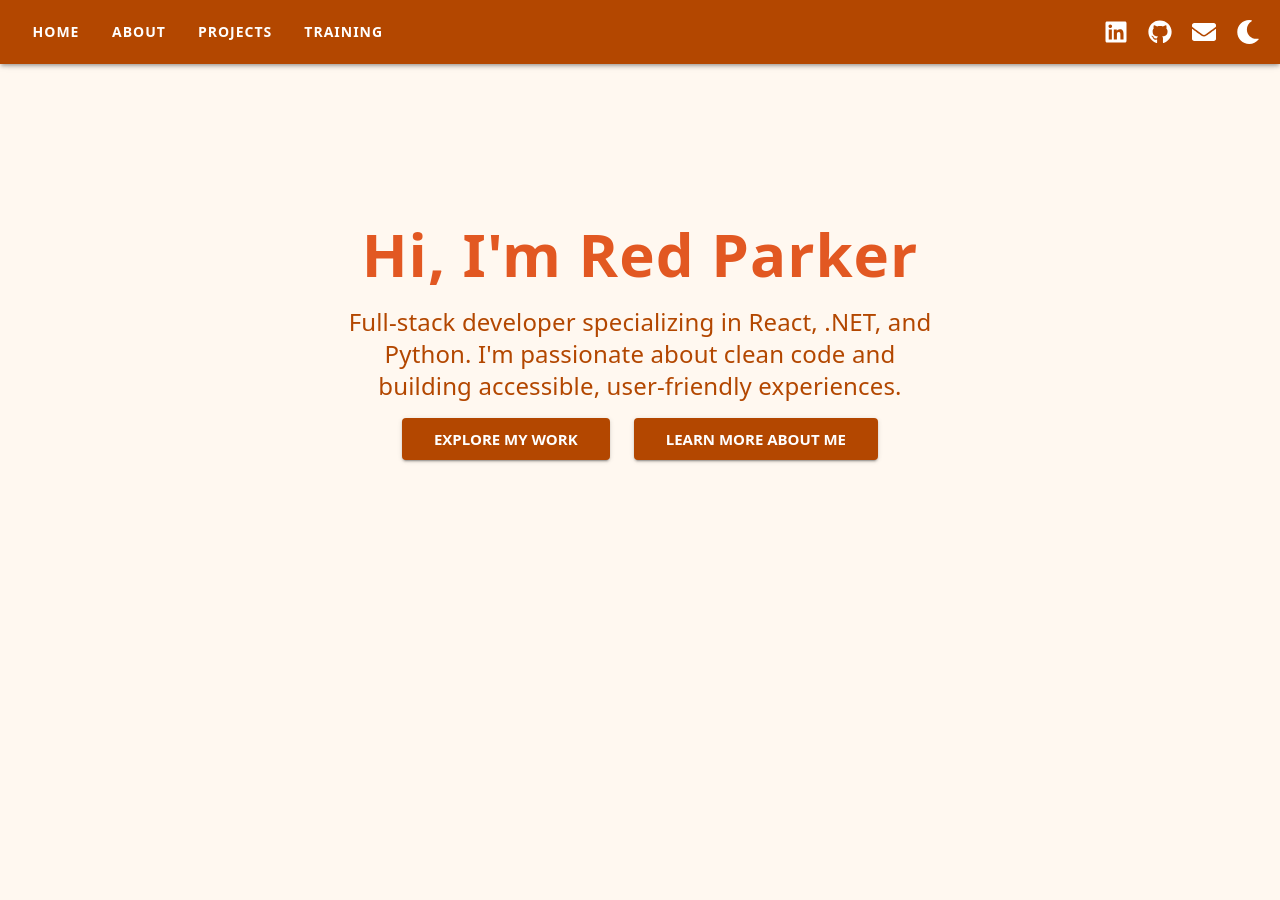
Theme toggling › toggles from light to dark and back to light, covering both branches
Expected: the 4th icon is shown, [1236,20,1260,44]
Click the button named "toggle dark mode": point(1248, 32) [1228,12,1268,52]
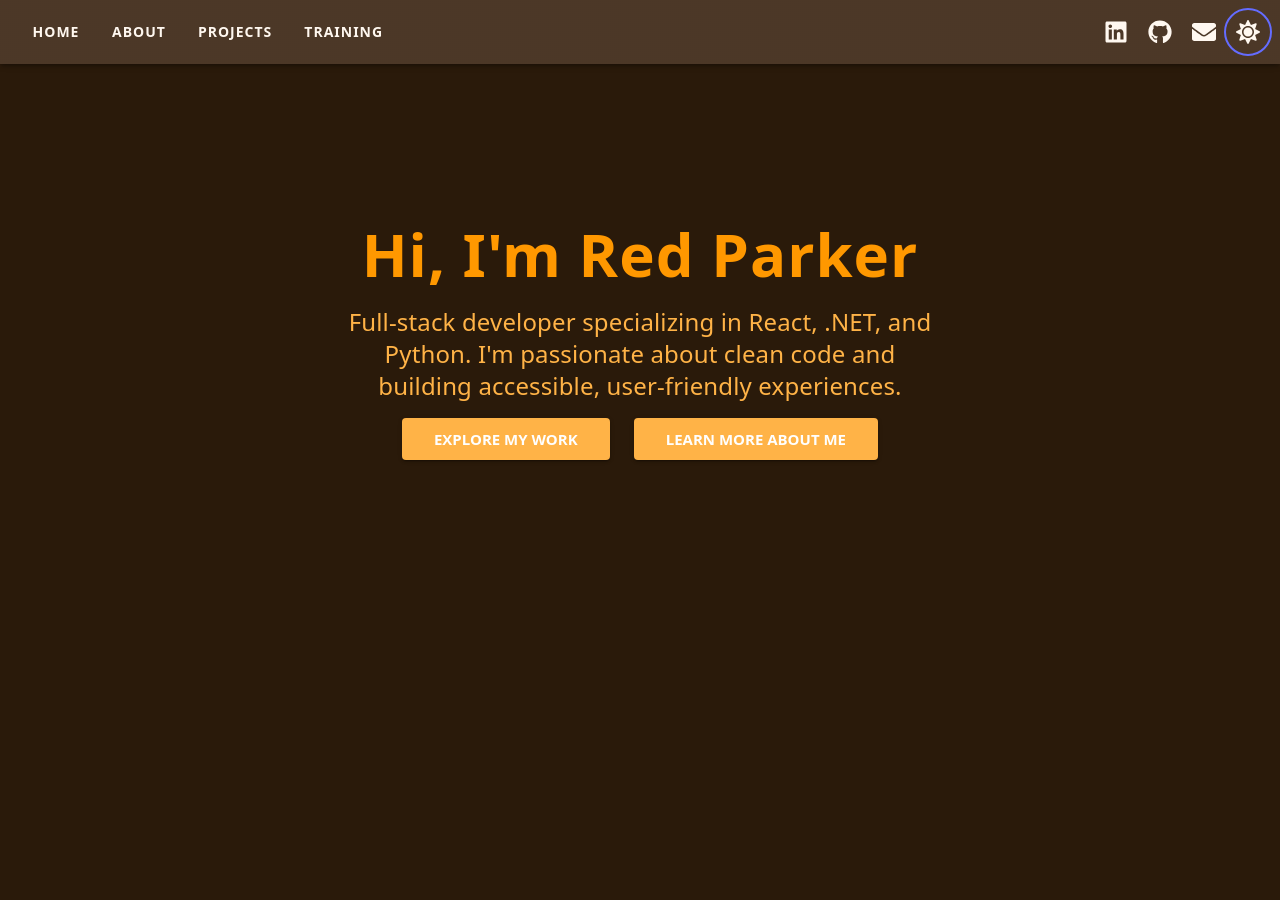
Expected: the 4th icon is shown, [1236,20,1260,44]
Click the button named "toggle dark mode": point(1248, 32) [1228,12,1268,52]
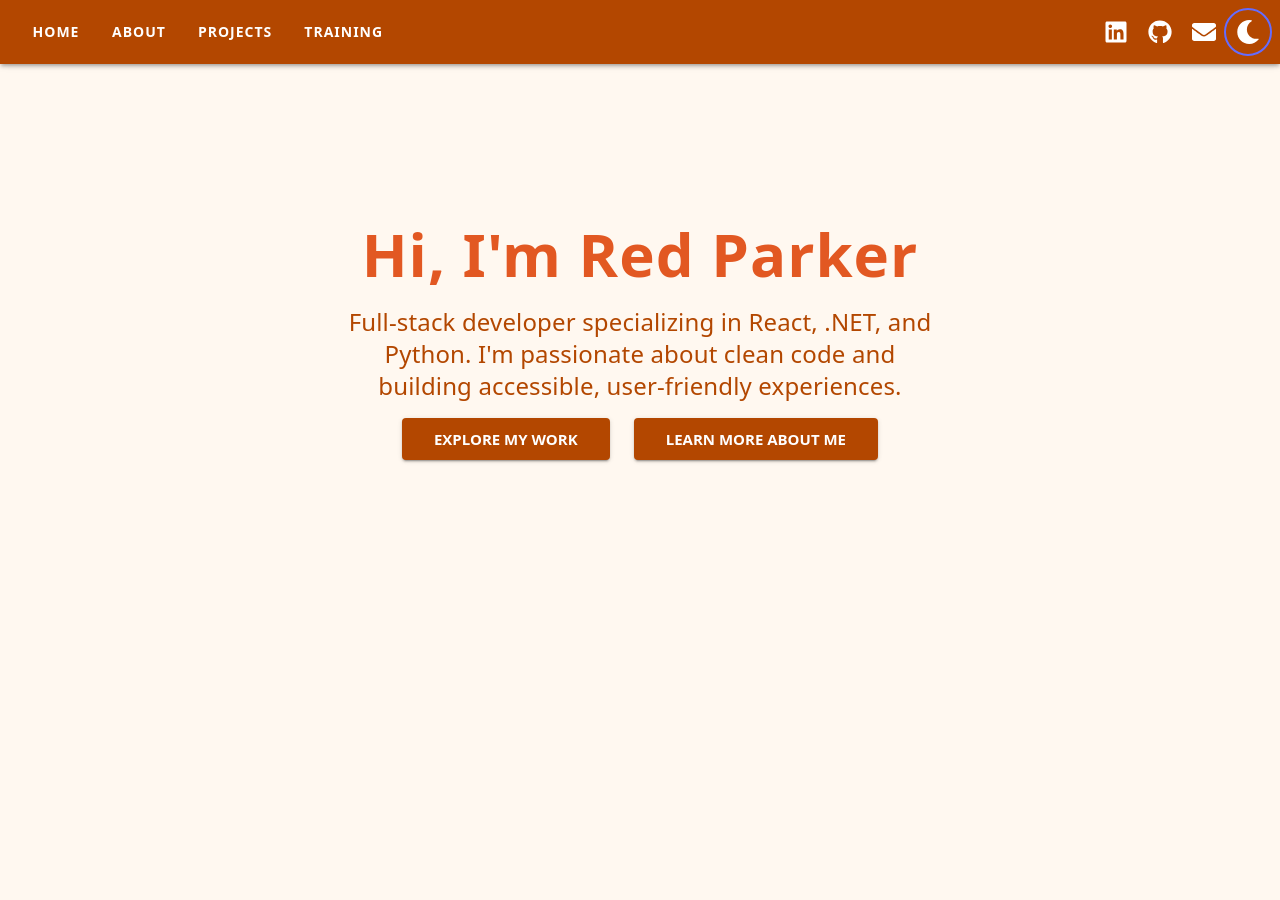
Expected: the 4th icon is shown, [1236,20,1260,44]
